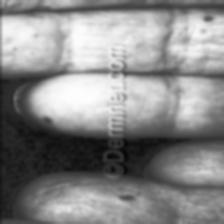Unclassified: (166, 10, 224, 40), (105, 190, 151, 214), (38, 106, 58, 124)
